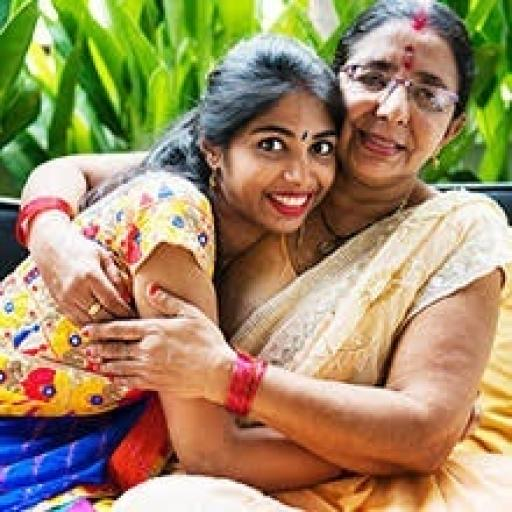hugging: (0, 0, 510, 510)
